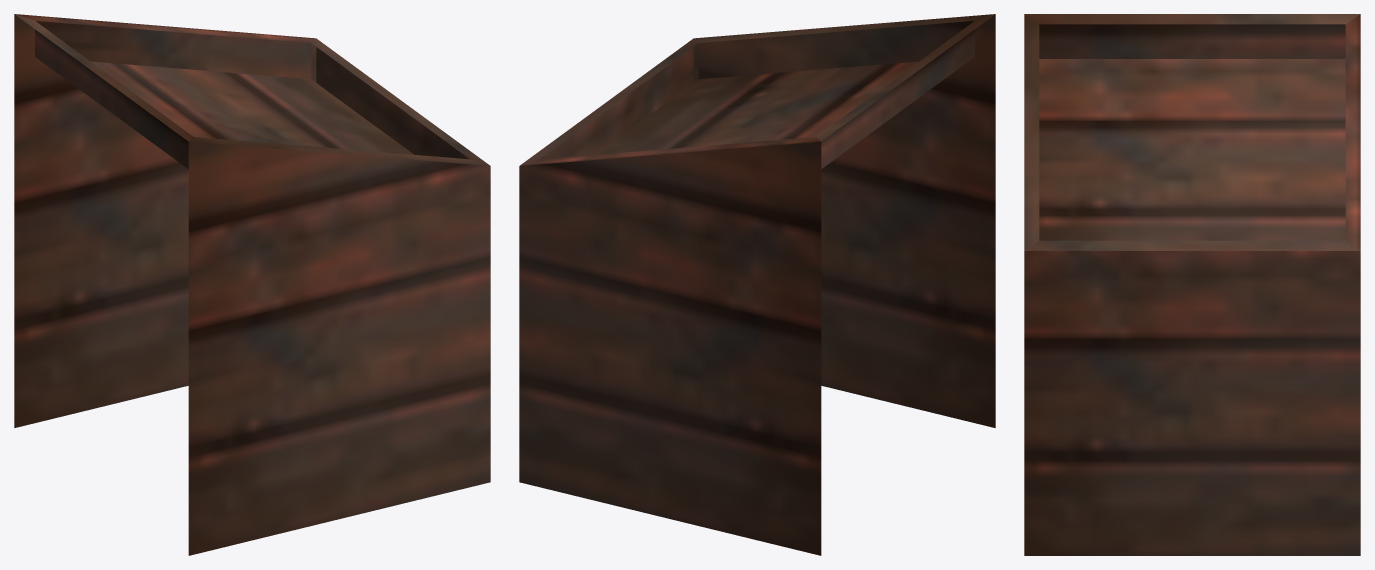
Rendered from PotatoShalf.fbx.
3 views of the same model, side by side, from view 1: azimuth 30°, elevation 25°; view 2: azimuth 150°, elevation 25°; view 3: azimuth 270°, elevation 25° (orthographic). The views are drawn at different scales.
Parts seen in each view (by area): view 1: Shalf; view 2: Shalf; view 3: Shalf.
Boxes of the visible parts, x1,y1,x2,y2 form: Shalf: (14,14,490,555); Shalf: (519,14,995,555); Shalf: (1024,14,1360,555).
Bounding box in the file's own units: 200 × 262 × 200.
